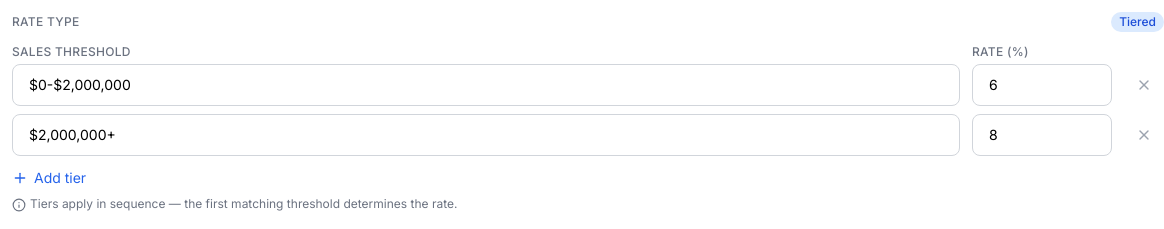
Test case: Tiered rate mode › removes a row when the remove button is clicked (2+ rows)
This screenshot has width=1164, height=229.
Click the 1st button named "remove tier": (1144, 85) left=1130, top=71, right=1158, bottom=99
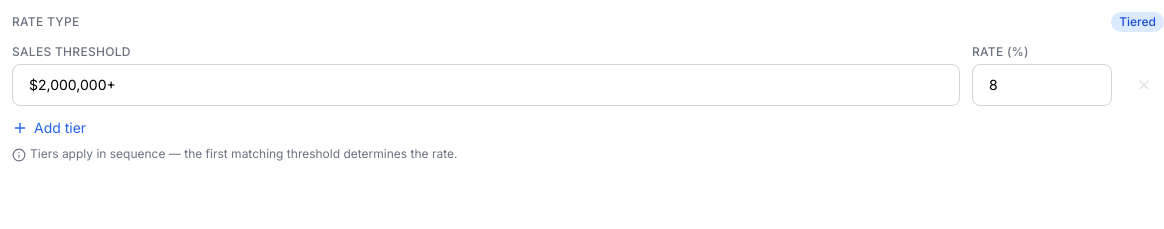
Result: the number of fields named "sales threshold" is 1 at left=12, top=64, right=960, bottom=106
